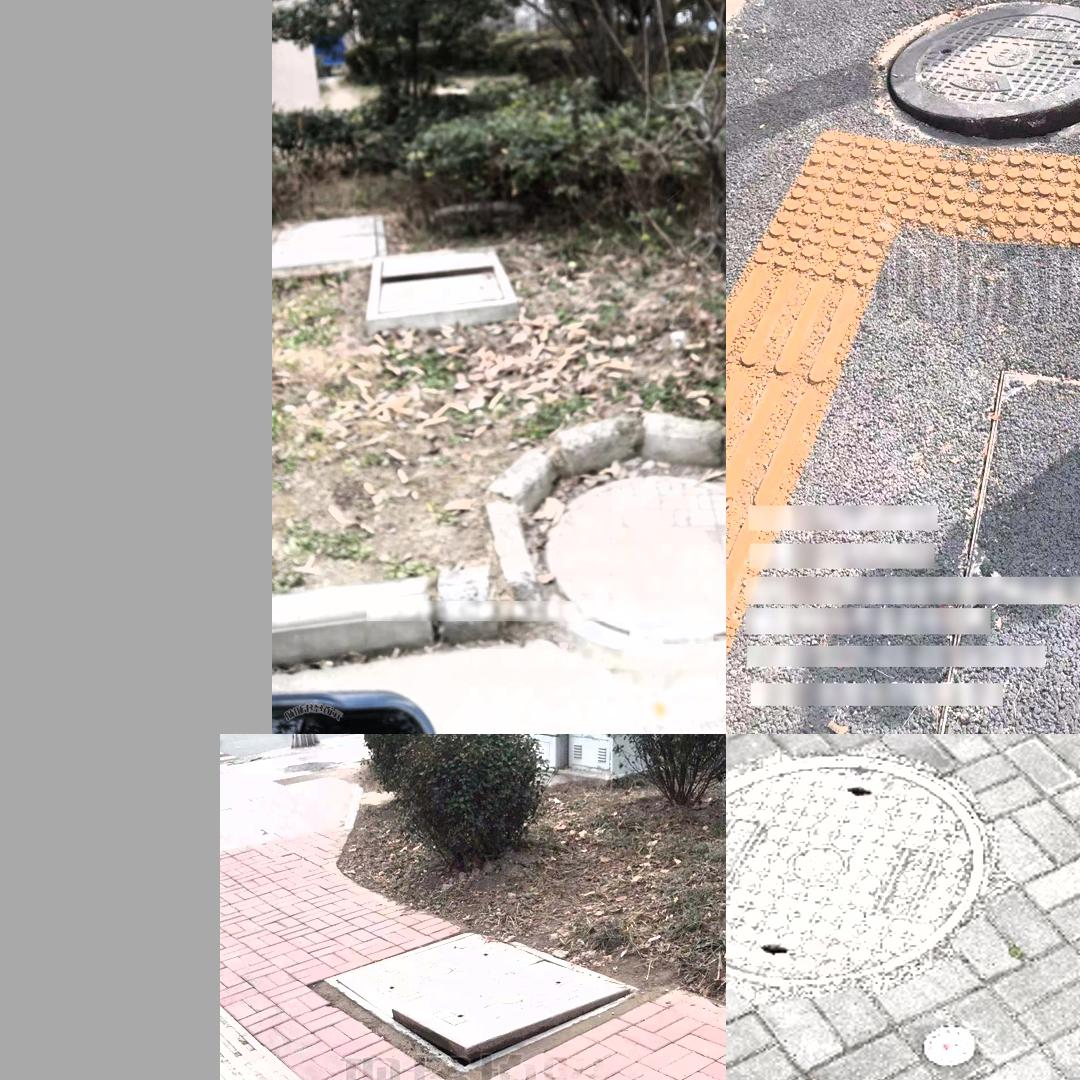good: (726, 754, 985, 994), (528, 473, 723, 651), (272, 208, 388, 283)
uncovered: (324, 933, 639, 1073), (880, 0, 1080, 151), (365, 243, 520, 325), (929, 1066, 1080, 1080)
